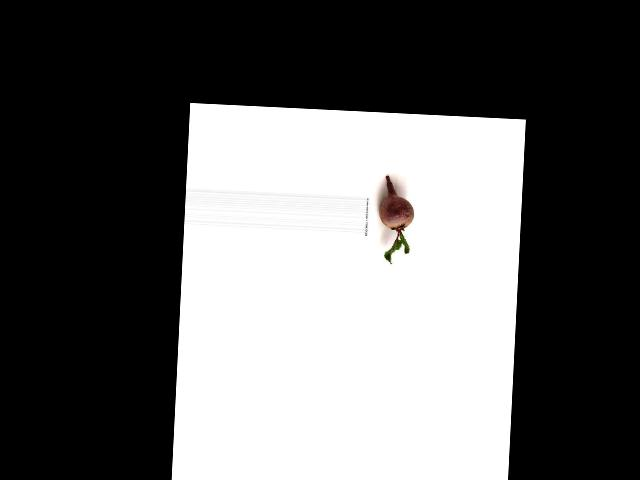beet: (376, 176, 415, 265)
